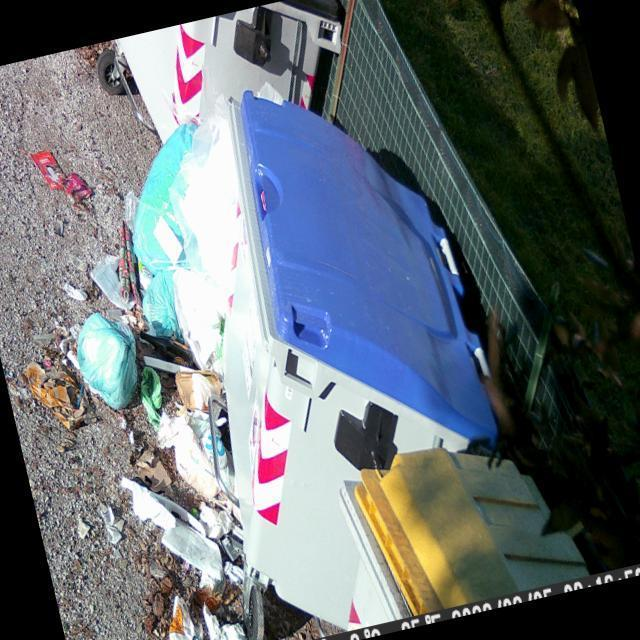garbage: (102, 115, 236, 352), (108, 447, 235, 618), (140, 360, 242, 514), (62, 294, 151, 416), (16, 334, 92, 446), (123, 580, 256, 640), (24, 131, 100, 223)
